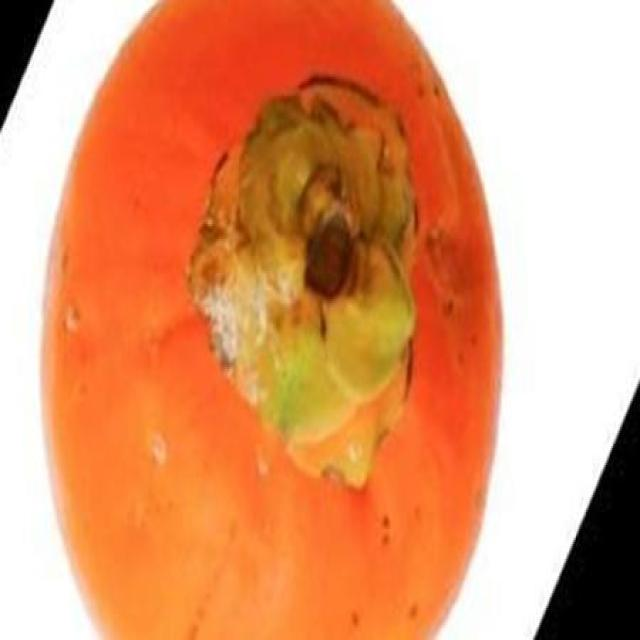good: (46, 0, 496, 638)
